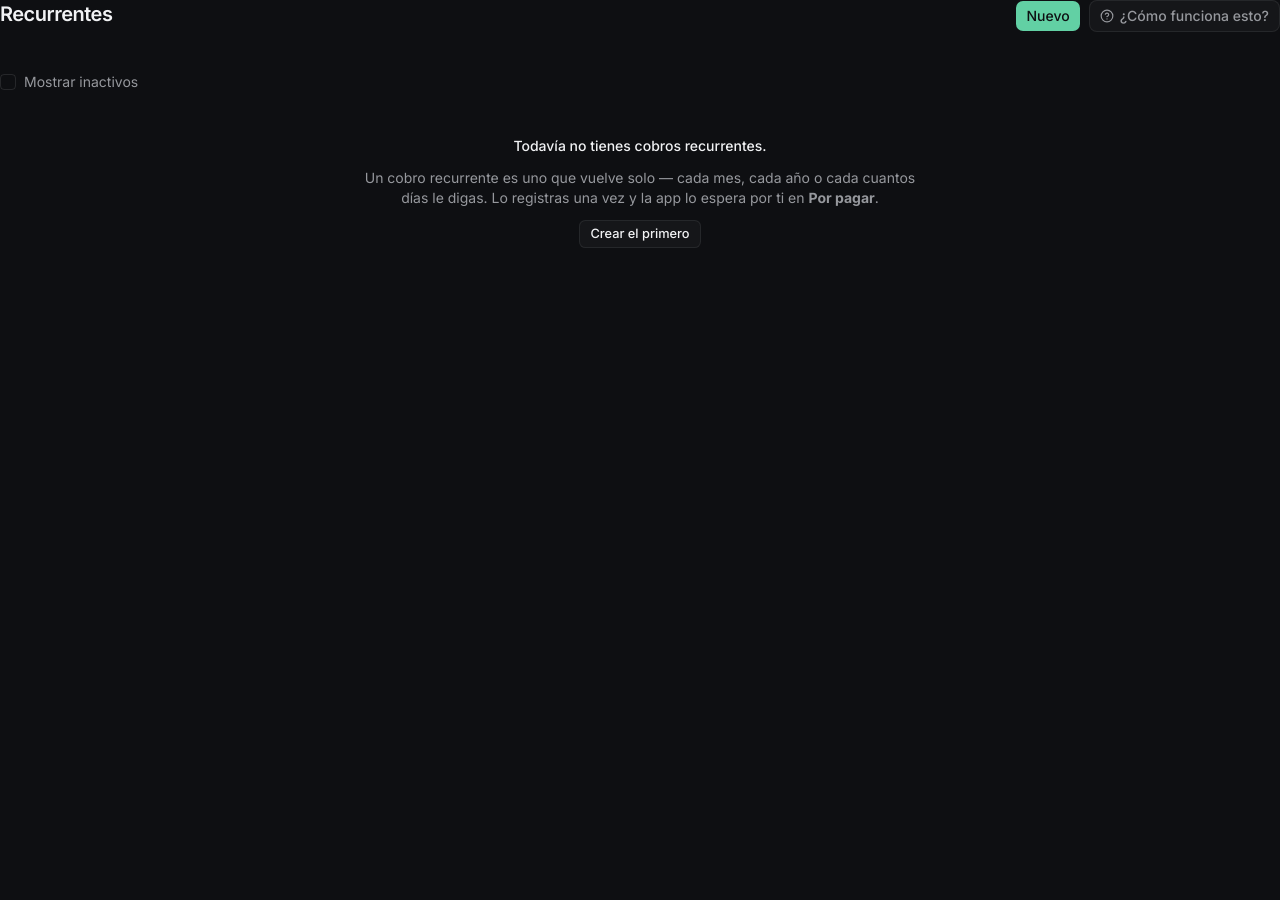
Test: AC-10 — an empty screen teaches and offers the way in › An empty Recurrentes screen teaches and offers the way in
expect the text "Un cobro recurrente es uno que vuelve solo" is shown: met, box [365,169,915,206]
Step 1. Click the button "Crear el primero" → (640, 234), box [580,220,700,248]
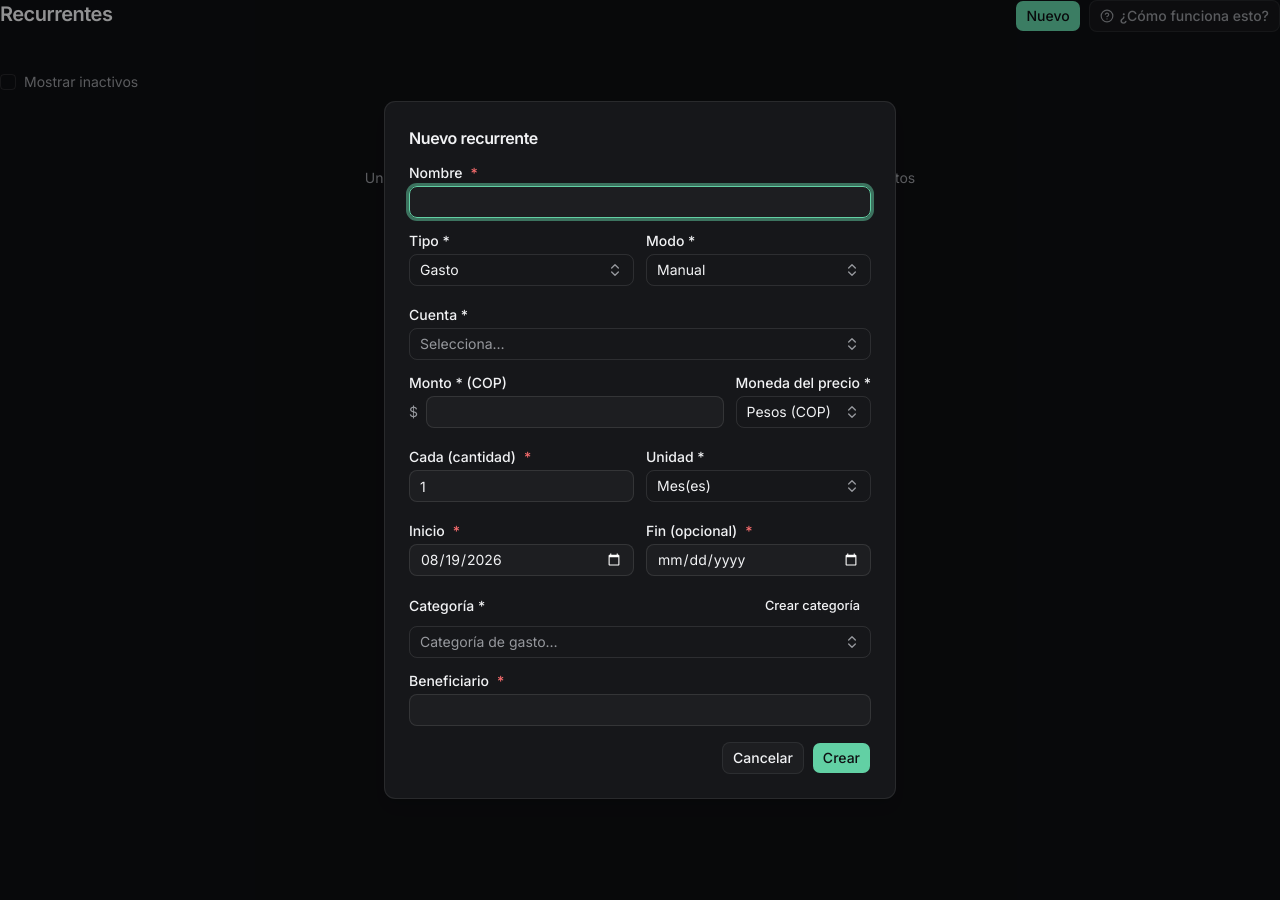
expect the heading "Nuevo recurrente" is shown: met, box [409,128,538,148]
